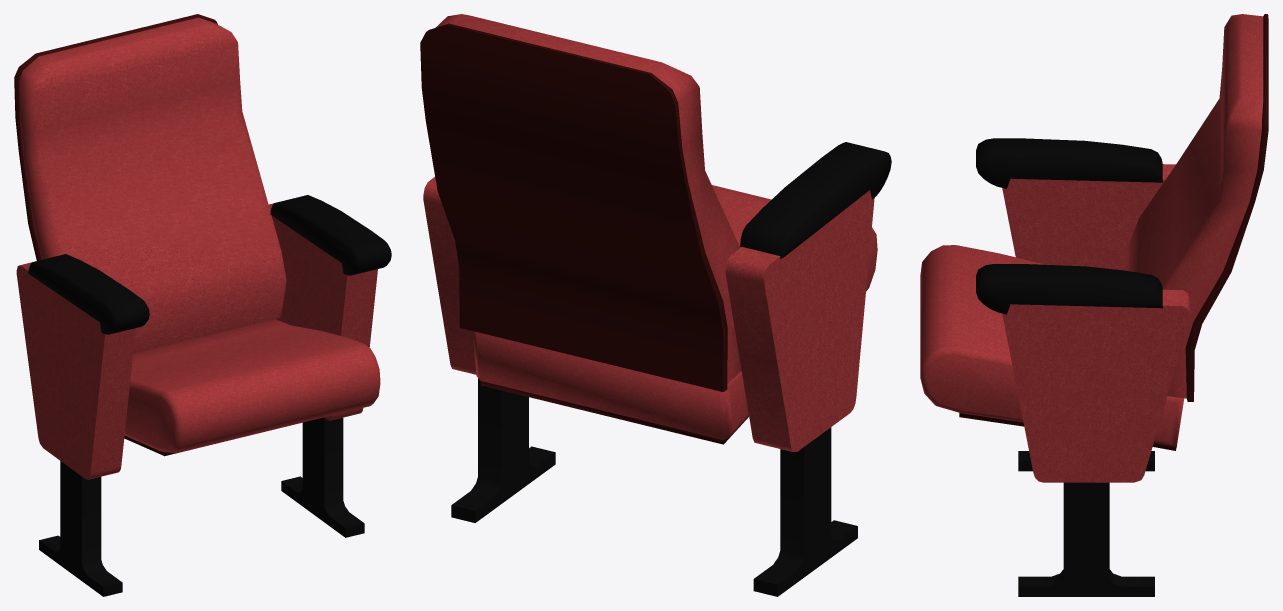
File: folding-armchair.obj
The picture shows the model from 3 angles, left to right: view 1: azimuth 30°, elevation 25°; view 2: azimuth 150°, elevation 25°; view 3: azimuth 270°, elevation 25°; orthographic projection. The views are drawn at different scales.
Parts seen in each view (by area): view 1: BackCushion, sweethome3d_opening_on_hinge_1_SeatCushion, RightArmCushion, LeftArmCushion, RightLeg, LeftLeg, LeftPlasticArm, RightPlasticArm, BackPlastic; view 2: BackPlastic, RightArmCushion, sweethome3d_opening_on_hinge_1_SeatCushion, BackCushion, RightPlasticArm, RightLeg, LeftLeg, LeftArmCushion, sweethome3d_opening_on_hinge_1_SeatPlastic; view 3: LeftArmCushion, BackCushion, sweethome3d_opening_on_hinge_1_SeatCushion, RightArmCushion, RightPlasticArm, LeftPlasticArm, LeftLeg, BackPlastic.
Boxes of the visible parts, box(x1,y1,x2,y2) form: BackCushion: box(19, 17, 286, 353); sweethome3d_opening_on_hinge_1_SeatCushion: box(124, 319, 380, 453); RightArmCushion: box(16, 262, 135, 479); LeftArmCushion: box(268, 203, 377, 420); RightLeg: box(39, 461, 122, 596); LeftLeg: box(281, 417, 364, 537); LeftPlasticArm: box(270, 195, 391, 275); RightPlasticArm: box(28, 254, 149, 334); BackPlastic: box(14, 14, 217, 260); BackPlastic: box(420, 23, 727, 391); RightArmCushion: box(725, 190, 874, 451); sweethome3d_opening_on_hinge_1_SeatCushion: box(472, 185, 877, 439); BackCushion: box(435, 14, 741, 383); RightPlasticArm: box(740, 142, 891, 259); RightLeg: box(753, 427, 857, 596); LeftLeg: box(451, 378, 555, 522); LeftArmCushion: box(423, 177, 476, 374); sweethome3d_opening_on_hinge_1_SeatPlastic: box(480, 381, 748, 444); LeftArmCushion: box(1002, 289, 1189, 482); BackCushion: box(1128, 14, 1263, 398); sweethome3d_opening_on_hinge_1_SeatCushion: box(920, 245, 1184, 446); RightArmCushion: box(1002, 164, 1175, 270); RightPlasticArm: box(976, 138, 1163, 188); LeftPlasticArm: box(976, 264, 1162, 314); LeftLeg: box(1018, 482, 1154, 596); BackPlastic: box(1185, 14, 1268, 401).
Size of the model in its own units: 59.23 by 90.74 by 60.58.
12 materials, 4 textured.
